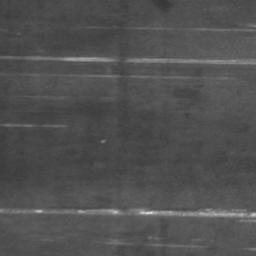Bright scratch: (0, 207, 256, 219), (0, 55, 116, 63), (128, 58, 256, 65)
